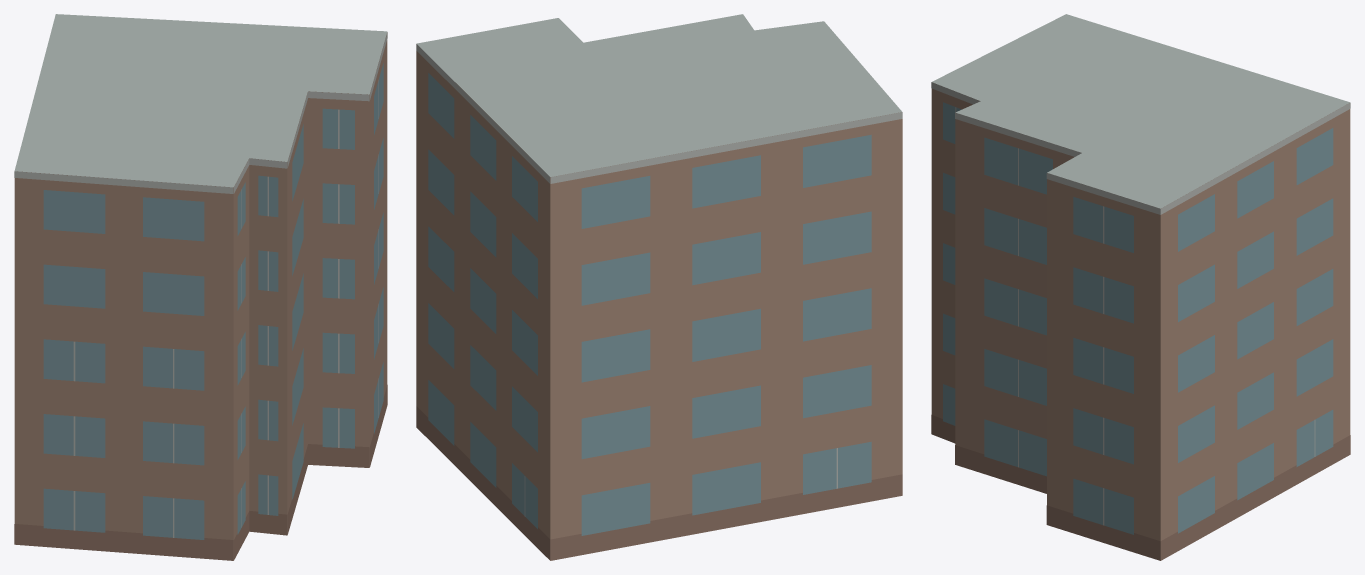
File: survey-upis-32941885.glb
3 views of the same model, side by side, from view 1: azimuth 30°, elevation 25°; view 2: azimuth 150°, elevation 25°; view 3: azimuth 270°, elevation 25° (orthographic). The views are drawn at different scales.
Parts seen in each view (by area): view 1: survey-upis-32941885.tmp; view 2: survey-upis-32941885.tmp; view 3: survey-upis-32941885.tmp.
Boxes of the visible parts, left/top/right/bottom form: survey-upis-32941885.tmp: left=14, top=14, right=387, bottom=560; survey-upis-32941885.tmp: left=416, top=14, right=902, bottom=560; survey-upis-32941885.tmp: left=931, top=14, right=1350, bottom=560.
Bounding box in the file's own units: 16.13 × 13.6 × 14.67.
